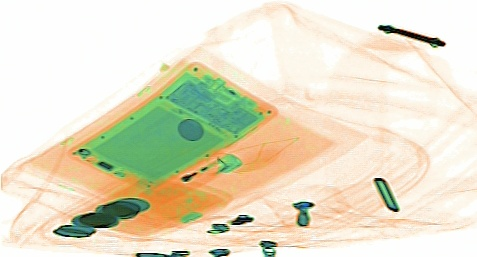lighter: (134, 150, 241, 203)
